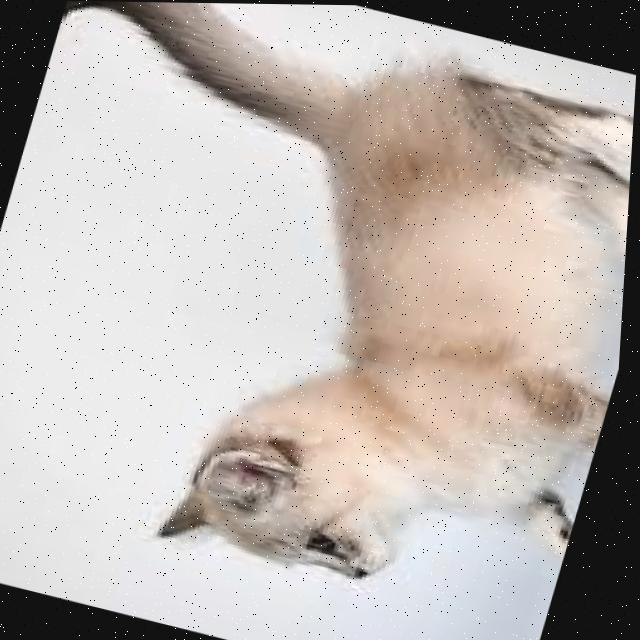Munchkin: (0, 0, 640, 635)
